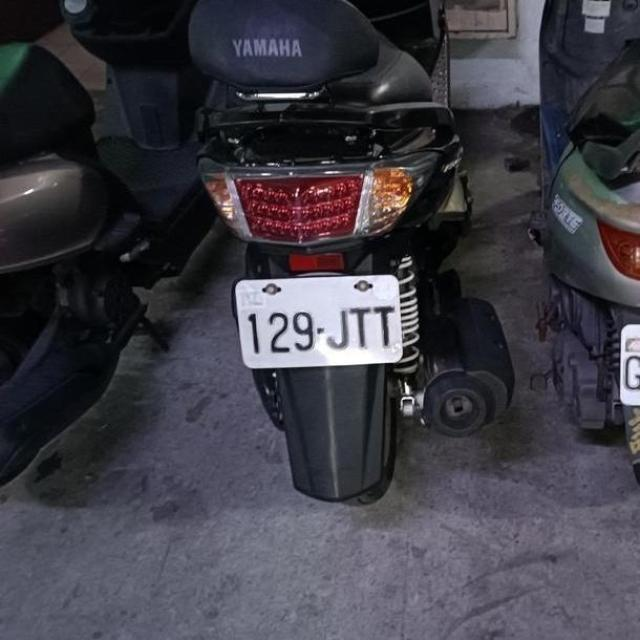W: (233, 272, 405, 371), (612, 314, 640, 413)
